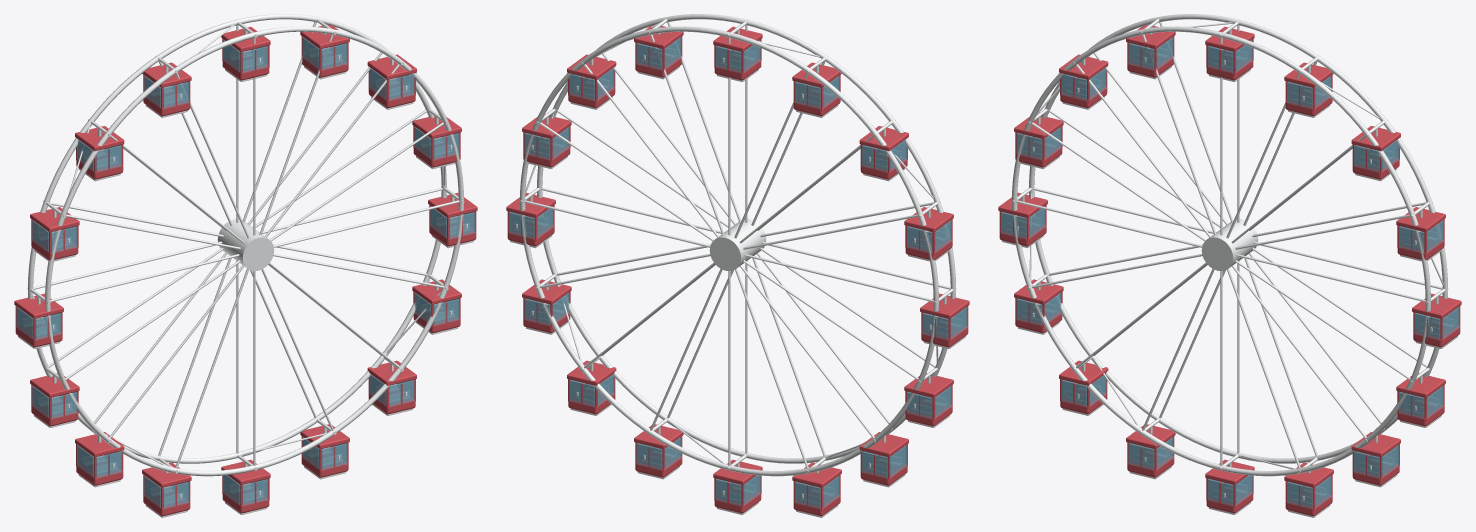
Rendered from observation-wheel-edit-base.glb.
3 views of the same model, side by side, from view 1: azimuth 30°, elevation 25°; view 2: azimuth 150°, elevation 25°; view 3: azimuth 330°, elevation 25° (orthographic).
Visible parts, largest first — view 1: Twin rims, spokes and cross braces, Red gondola bodies, Enclosed gondola glazing, Gondola frames, seats and hangers; view 2: Twin rims, spokes and cross braces, Red gondola bodies, Enclosed gondola glazing, Gondola frames, seats and hangers; view 3: Twin rims, spokes and cross braces, Red gondola bodies, Enclosed gondola glazing, Gondola frames, seats and hangers.
Boxes of the visible parts, left/top/right/bottom form: Twin rims, spokes and cross braces: left=27, top=14, right=464, bottom=476; Red gondola bodies: left=14, top=25, right=477, bottom=516; Enclosed gondola glazing: left=16, top=37, right=474, bottom=508; Gondola frames, seats and hangers: left=18, top=27, right=473, bottom=517; Twin rims, spokes and cross braces: left=519, top=14, right=956, bottom=476; Red gondola bodies: left=506, top=25, right=969, bottom=516; Enclosed gondola glazing: left=509, top=37, right=967, bottom=508; Gondola frames, seats and hangers: left=510, top=27, right=965, bottom=517; Twin rims, spokes and cross braces: left=1011, top=14, right=1448, bottom=476; Red gondola bodies: left=998, top=25, right=1461, bottom=516; Enclosed gondola glazing: left=1001, top=37, right=1459, bottom=508; Gondola frames, seats and hangers: left=1002, top=27, right=1457, bottom=517.
Bounding box in the file's own units: 4.51 × 4.66 × 0.44.
